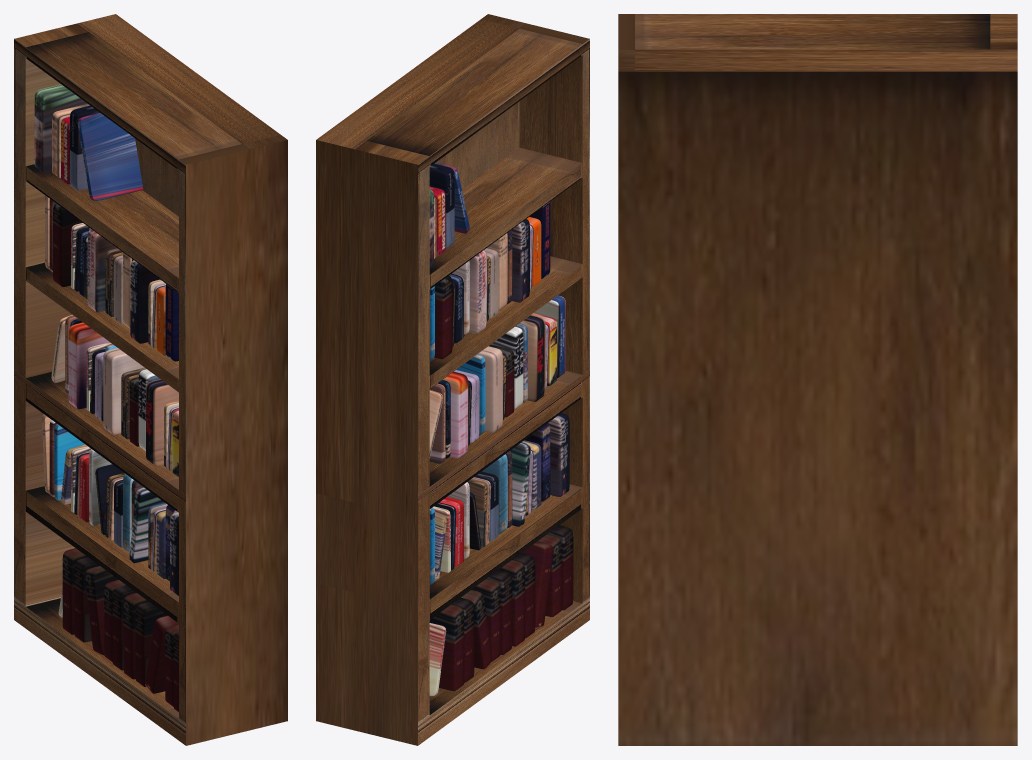
The model's file is bookshelf.glb.
3 views of the same model, side by side, from view 1: azimuth 30°, elevation 25°; view 2: azimuth 150°, elevation 25°; view 3: azimuth 270°, elevation 25° (orthographic). The views are drawn at different scales.
Visible parts, largest first — view 1: Bookshelf_0; view 2: Bookshelf_0; view 3: Bookshelf_0.
Part boxes in pixels (x1=…): Bookshelf_0: x1=14, y1=14, x2=287, y2=745; Bookshelf_0: x1=316, y1=14, x2=589, y2=745; Bookshelf_0: x1=618, y1=14, x2=1017, y2=745.
Bounding box in the file's own units: 0.2109 × 1.15 × 0.617.
2 materials, 2 textured.
